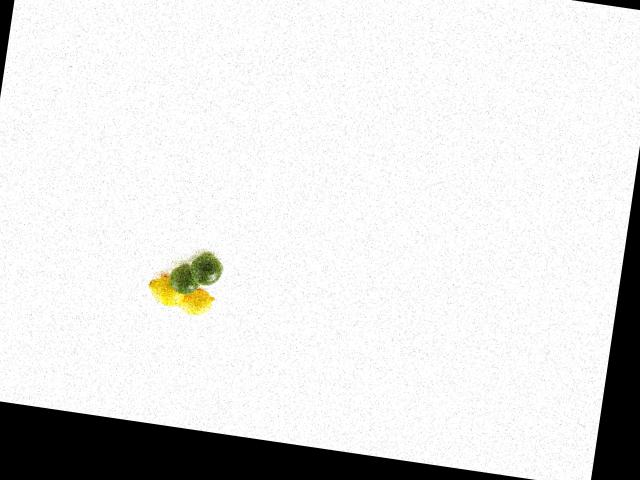lemon: (187, 251, 228, 289)
